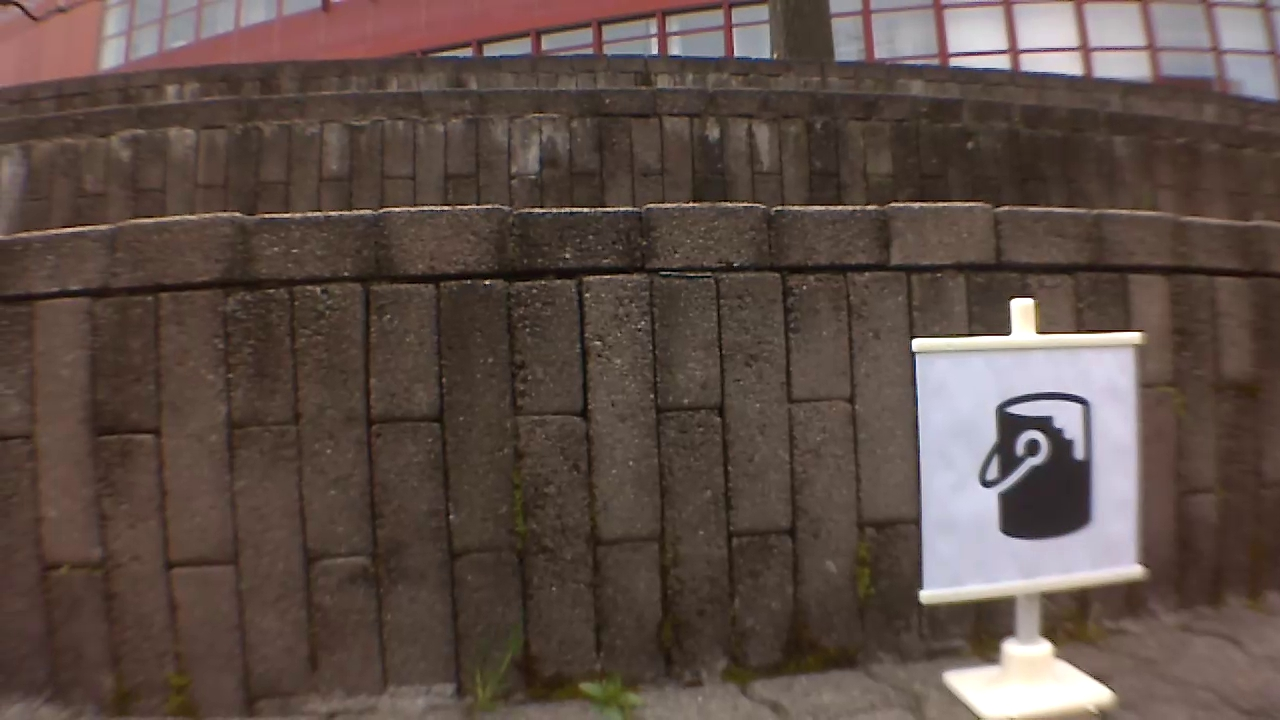bucket: (981, 390, 1104, 545)
